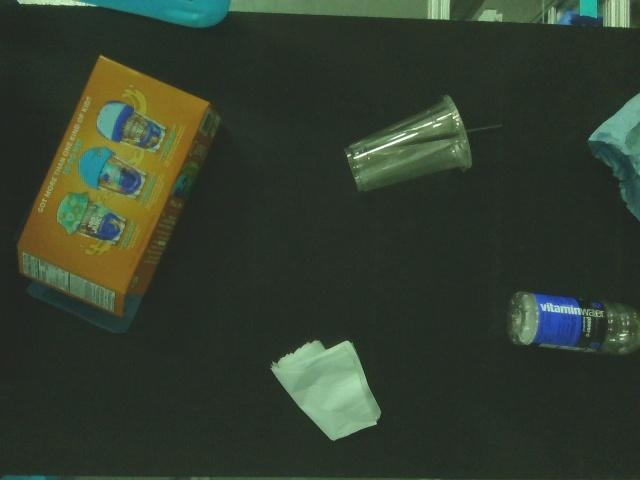cardboard: (15, 51, 224, 337)
paper: (270, 335, 382, 443), (585, 87, 640, 224)
plastic: (344, 94, 506, 193), (505, 285, 640, 357)
